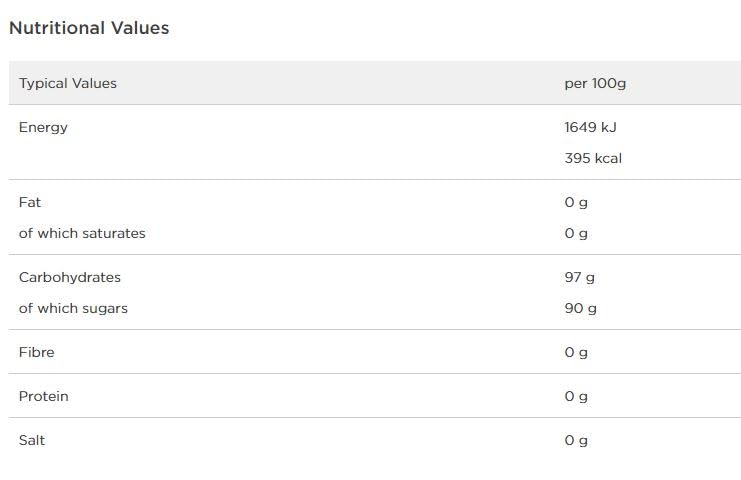100g: (593, 78, 626, 90)
1649: (565, 122, 596, 132)
395: (565, 153, 590, 163)
909: (565, 303, 596, 315)
979: (565, 272, 594, 284)
Carbohydrates: (19, 272, 120, 284)
Eneray: (20, 122, 67, 134)
Fat: (20, 197, 41, 207)
Fibre: (20, 347, 54, 357)
Nutritional: (10, 21, 104, 34)
Protein: (20, 391, 68, 401)
Salt: (19, 435, 45, 445)
Typical: (19, 78, 67, 90)
Values: (111, 21, 169, 34), (72, 78, 117, 88)
kcal: (596, 153, 621, 163)
of: (19, 228, 33, 238), (19, 303, 33, 313)
og: (565, 197, 587, 209), (565, 228, 587, 240), (565, 347, 587, 359), (565, 391, 587, 403), (565, 435, 587, 447)
per: (565, 81, 587, 90)
saturates: (83, 229, 145, 238)
sugars: (83, 306, 127, 315)
which: (38, 228, 77, 238), (38, 303, 77, 313)
